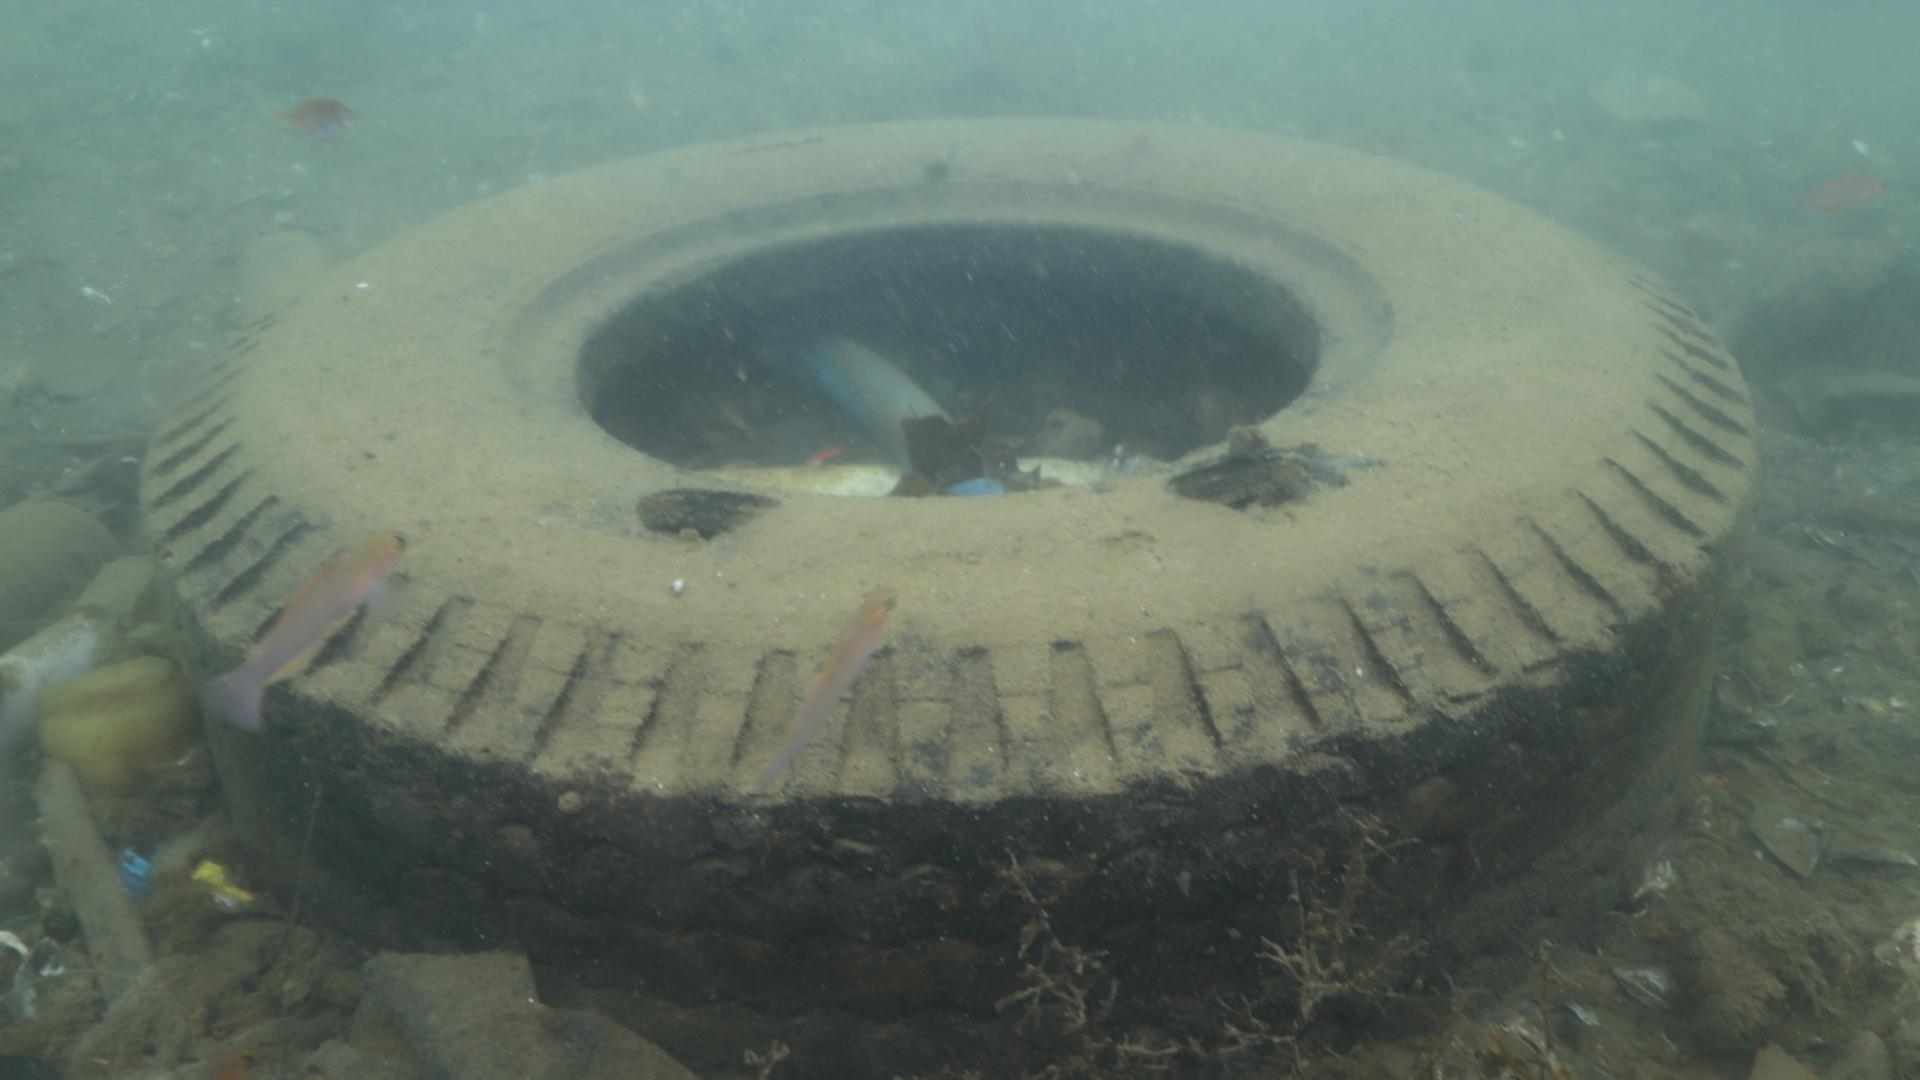tire: (135, 112, 1760, 1079)
